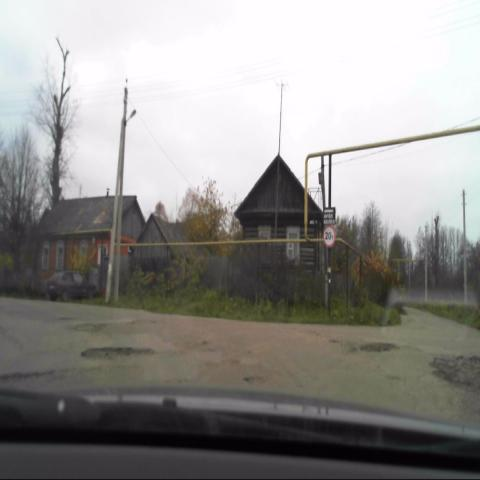3_11: (322, 224, 336, 246)
